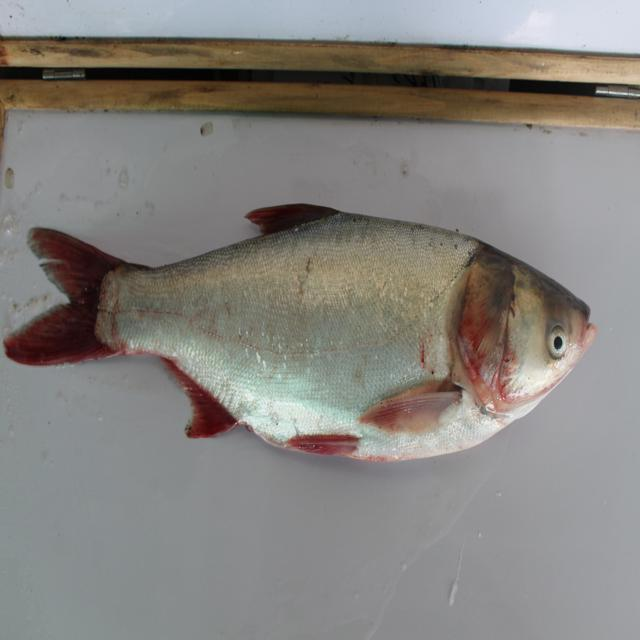SilverCarp: (25, 207, 606, 469)
